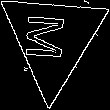M_E: (28, 14, 77, 65)
